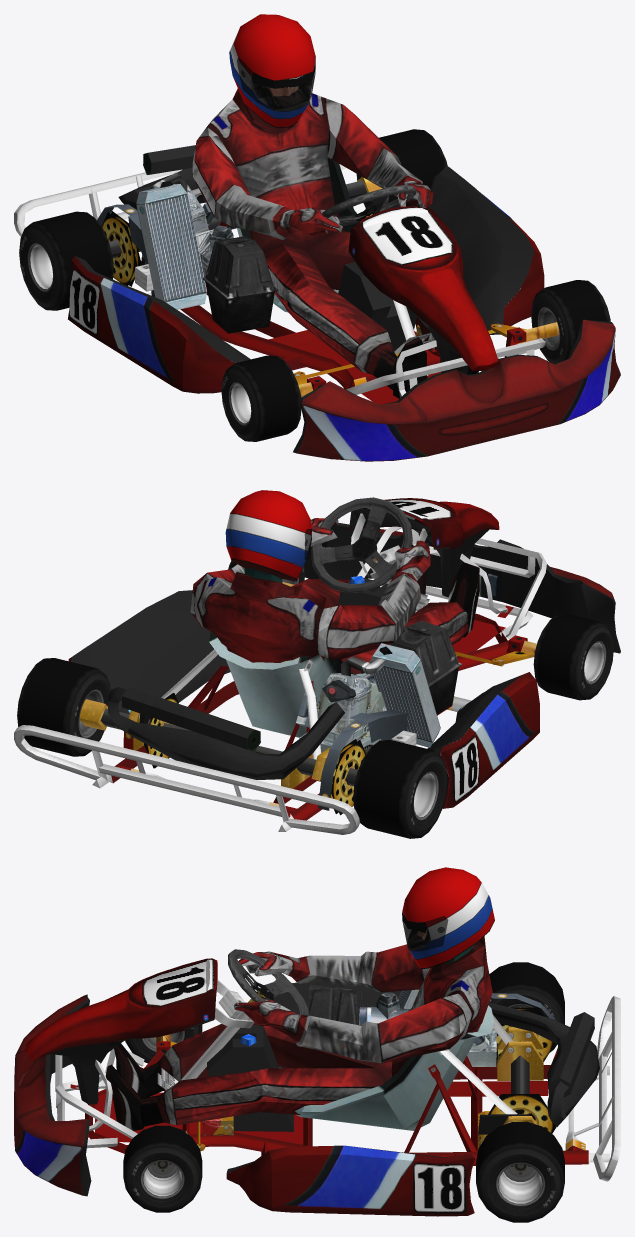
File: Kart.FBX
3 renders of one model, top to bottom at view 1: azimuth 30°, elevation 25°; view 2: azimuth 150°, elevation 25°; view 3: azimuth 270°, elevation 25°, orthographic. The views are drawn at different scales.
Visible parts, largest first — view 1: body, man, Wheel_RR, helmet, Wheel_FR, Wheel_FL, Wheel_RL, glass, rool; view 2: body, man, Wheel_RR, Wheel_RL, helmet, Wheel_FR, rool; view 3: body, man, Wheel_RL, helmet, Wheel_FL, Wheel_RR, rool, glass, Wheel_FR.
Boxes of the visible parts, x1,y1,x2,y2 form: body: (14,145,620,461); man: (192,77,478,398); Wheel_RR: (19,177,382,310); helmet: (229,14,315,127); Wheel_FR: (221,355,301,441); Wheel_FL: (531,280,610,363); Wheel_RL: (356,129,447,210); glass: (237,54,315,111); rool: (322,185,416,226); body: (14,498,620,834); man: (190,518,479,673); Wheel_RR: (79,693,447,838); Wheel_RL: (17,658,110,756); helmet: (225,490,311,581); Wheel_FR: (533,614,613,700); rool: (310,497,412,593); body: (14,958,620,1216); man: (105,927,492,1130); Wheel_RL: (476,1121,564,1222); helmet: (402,867,494,969); Wheel_FL: (123,1125,202,1212); Wheel_RR: (488,962,564,1133); rool: (228,949,309,1015); glass: (402,916,448,951); Wheel_FR: (125,1024,202,1063).
Size of the model in its own units: 1.83 by 2.52 by 1.2.
